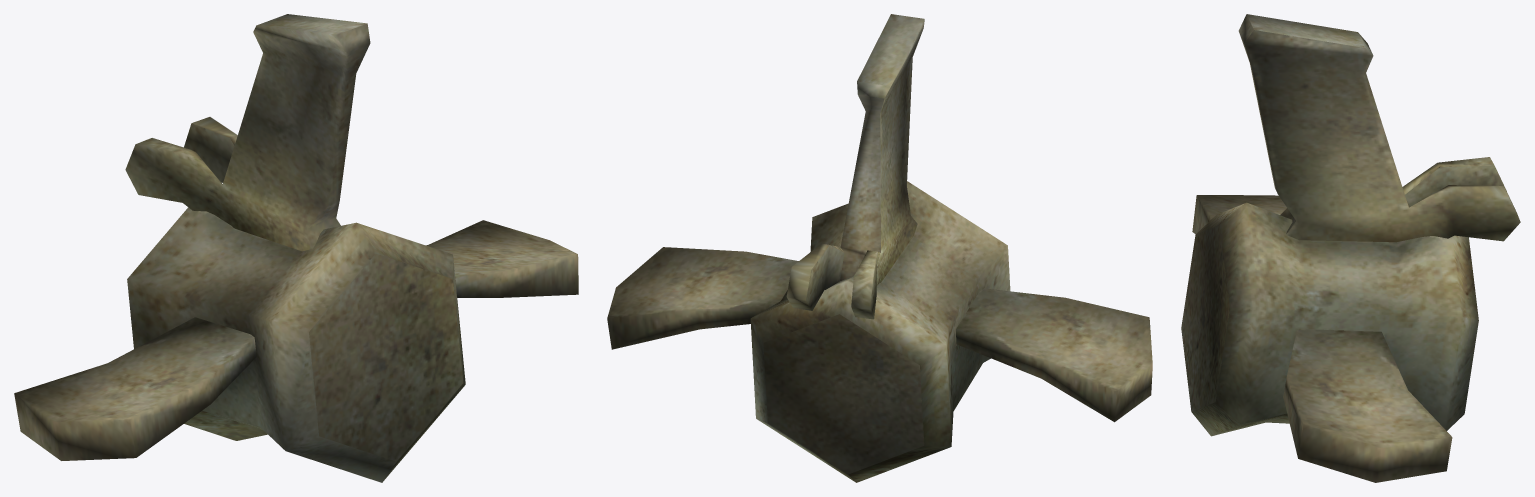
Rendered from bone_whale_piece_ver02.fbx.
3 views of the same model, side by side, from view 1: azimuth 30°, elevation 25°; view 2: azimuth 150°, elevation 25°; view 3: azimuth 270°, elevation 25° (orthographic). The views are drawn at different scales.
Visible parts, largest first — view 1: bone_whale_piece_ver02; view 2: bone_whale_piece_ver02; view 3: bone_whale_piece_ver02.
Boxes of the visible parts, left/top/right/bottom form: bone_whale_piece_ver02: left=14, top=14, right=578, bottom=482; bone_whale_piece_ver02: left=607, top=14, right=1152, bottom=482; bone_whale_piece_ver02: left=1181, top=14, right=1520, bottom=482.
Bounding box in the file's own units: 5.28 × 4.24 × 2.99.
